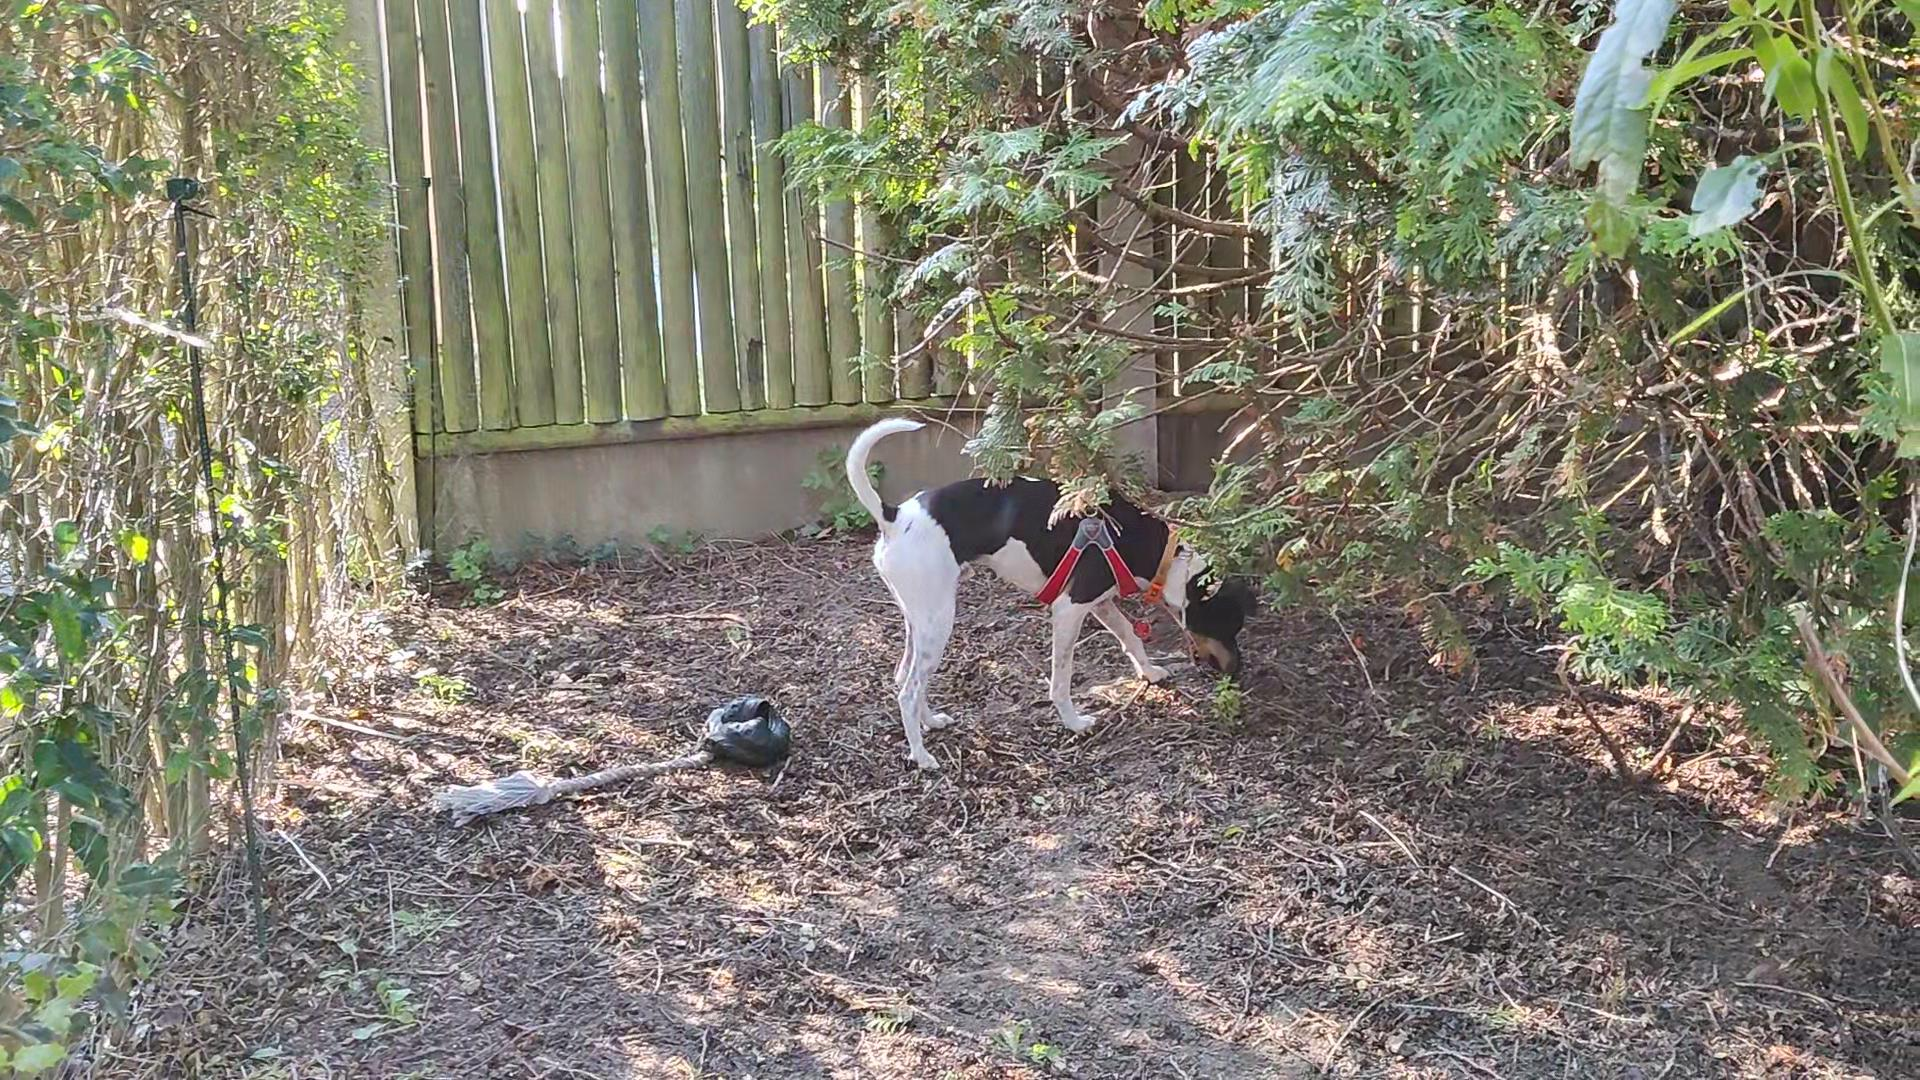Dog: (828, 410, 1259, 775)
